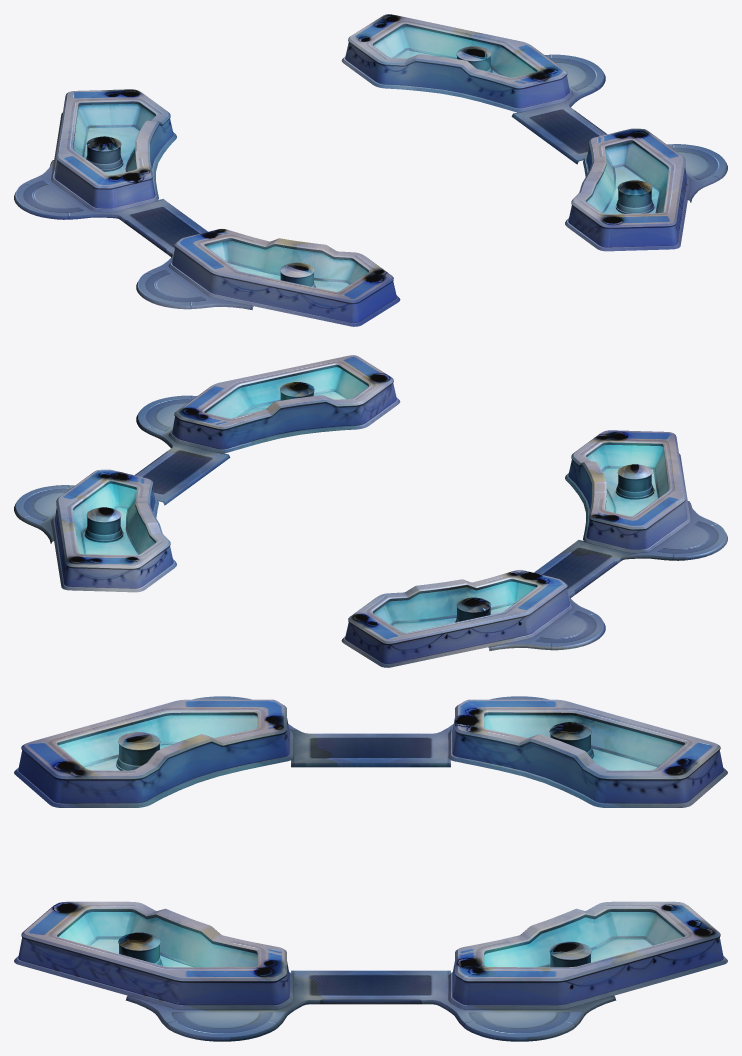
The model's file is pref_sm_4v4beachtech_WSJ_bk_waterblock_c02a_lv2.fbx.
3 renders of one model, top to bottom at view 1: azimuth 30°, elevation 25°; view 2: azimuth 150°, elevation 25°; view 3: azimuth 270°, elevation 25°, orthographic. The views are drawn at different scales.
Parts seen in each view (by area): view 1: pref_sm_4v4beachtech_WSJ_bk_waterblock_c02a_lv2; view 2: pref_sm_4v4beachtech_WSJ_bk_waterblock_c02a_lv2; view 3: pref_sm_4v4beachtech_WSJ_bk_waterblock_c02a_lv2.
Part boxes in pixels (x1,y1,x2,y2): pref_sm_4v4beachtech_WSJ_bk_waterblock_c02a_lv2: (14, 14, 727, 326); pref_sm_4v4beachtech_WSJ_bk_waterblock_c02a_lv2: (14, 355, 727, 667); pref_sm_4v4beachtech_WSJ_bk_waterblock_c02a_lv2: (14, 696, 727, 1041).
Size of the model in its own units: 39.66 by 2.07 by 34.89.
Materials: 1 (1 with a texture image).
